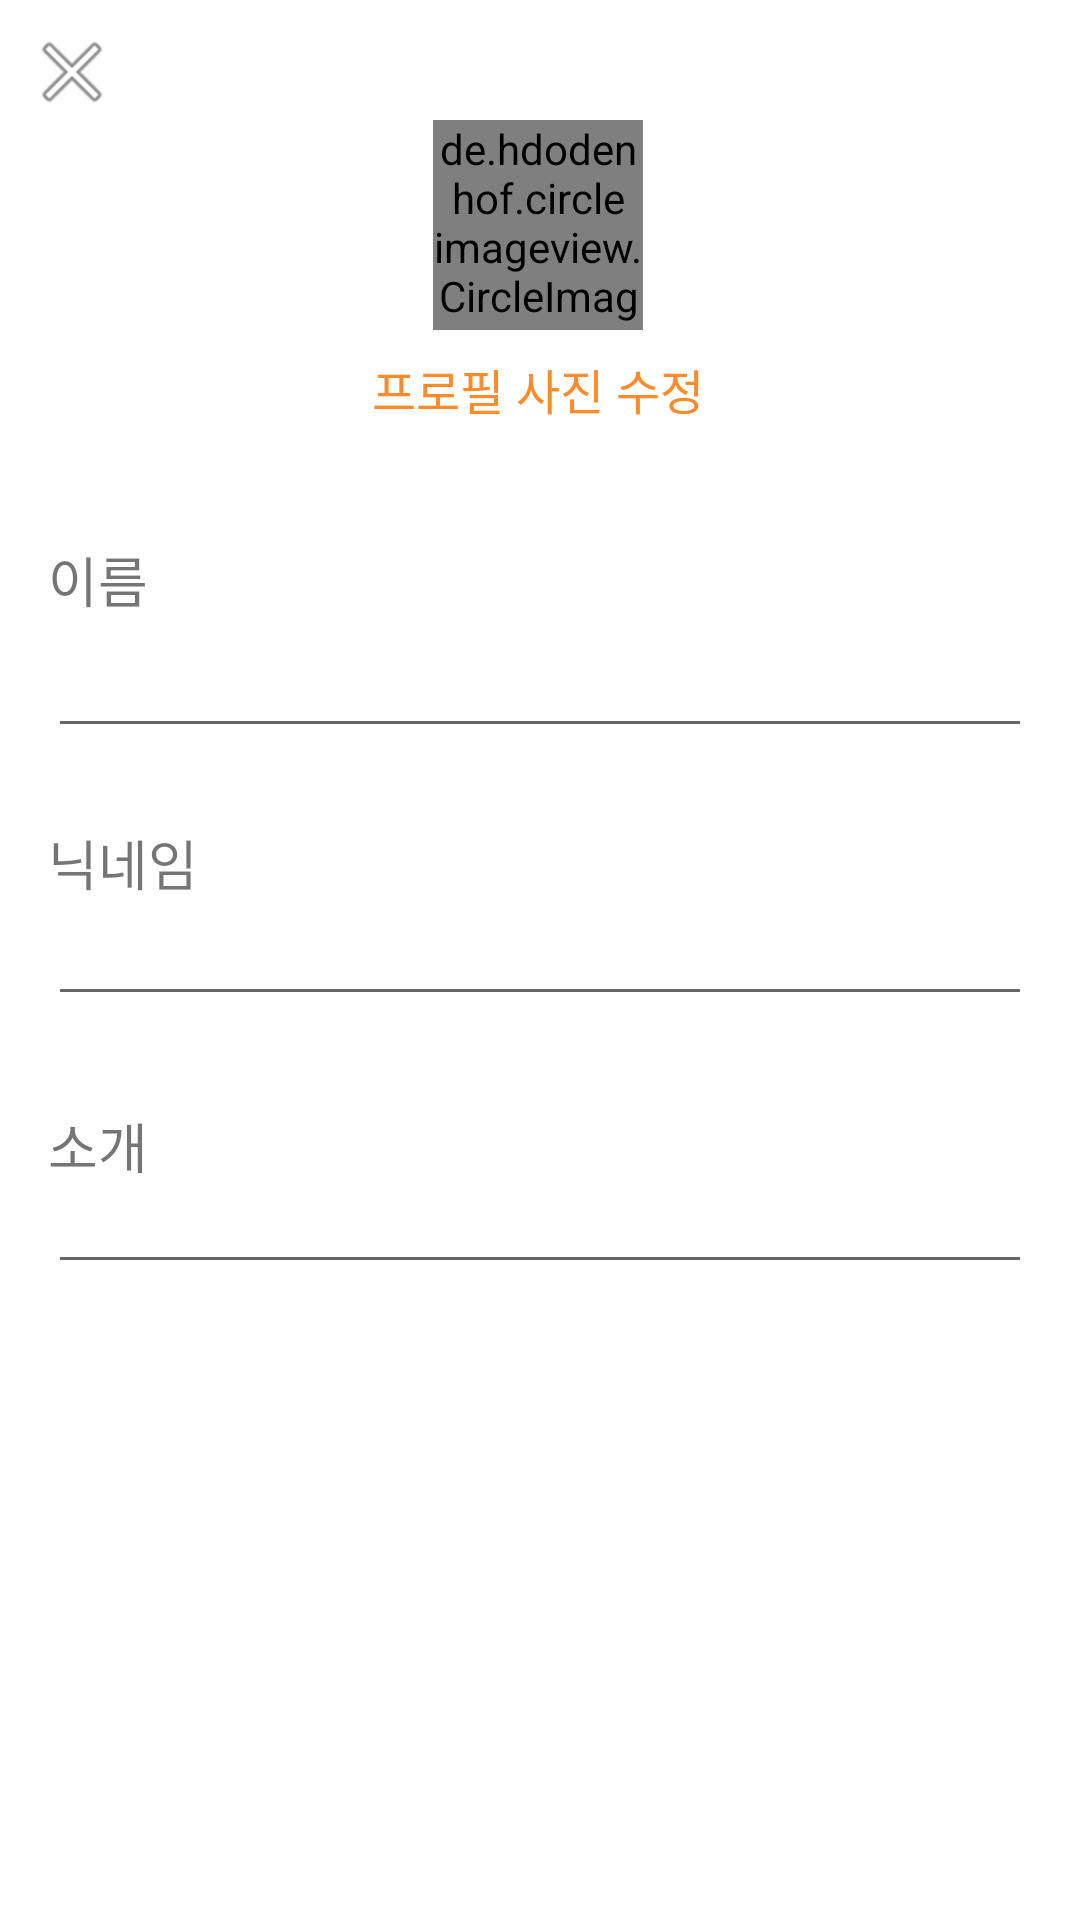

Icon click points for this 1080*1920 phone screenshot, format [x,y]:
close clear cancel: [72,72]
